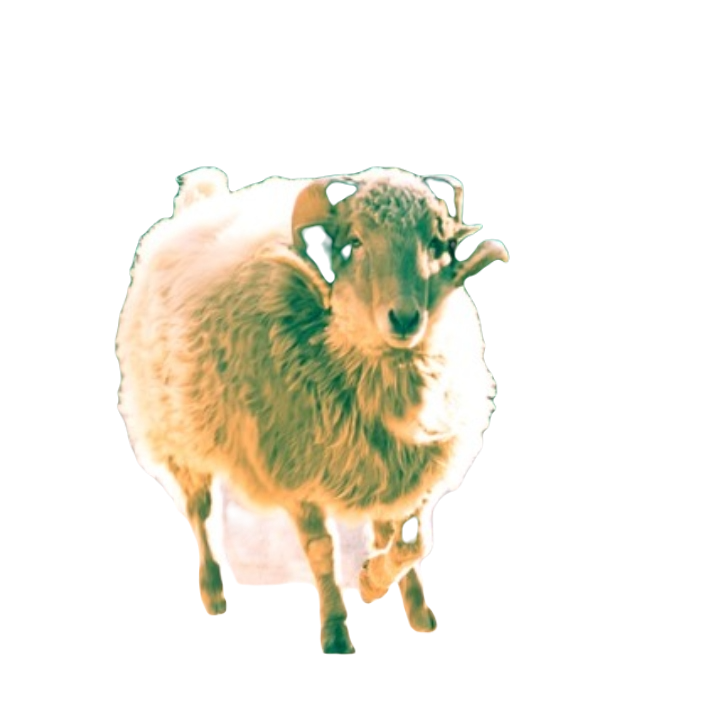Sheep: (108, 156, 511, 662)
